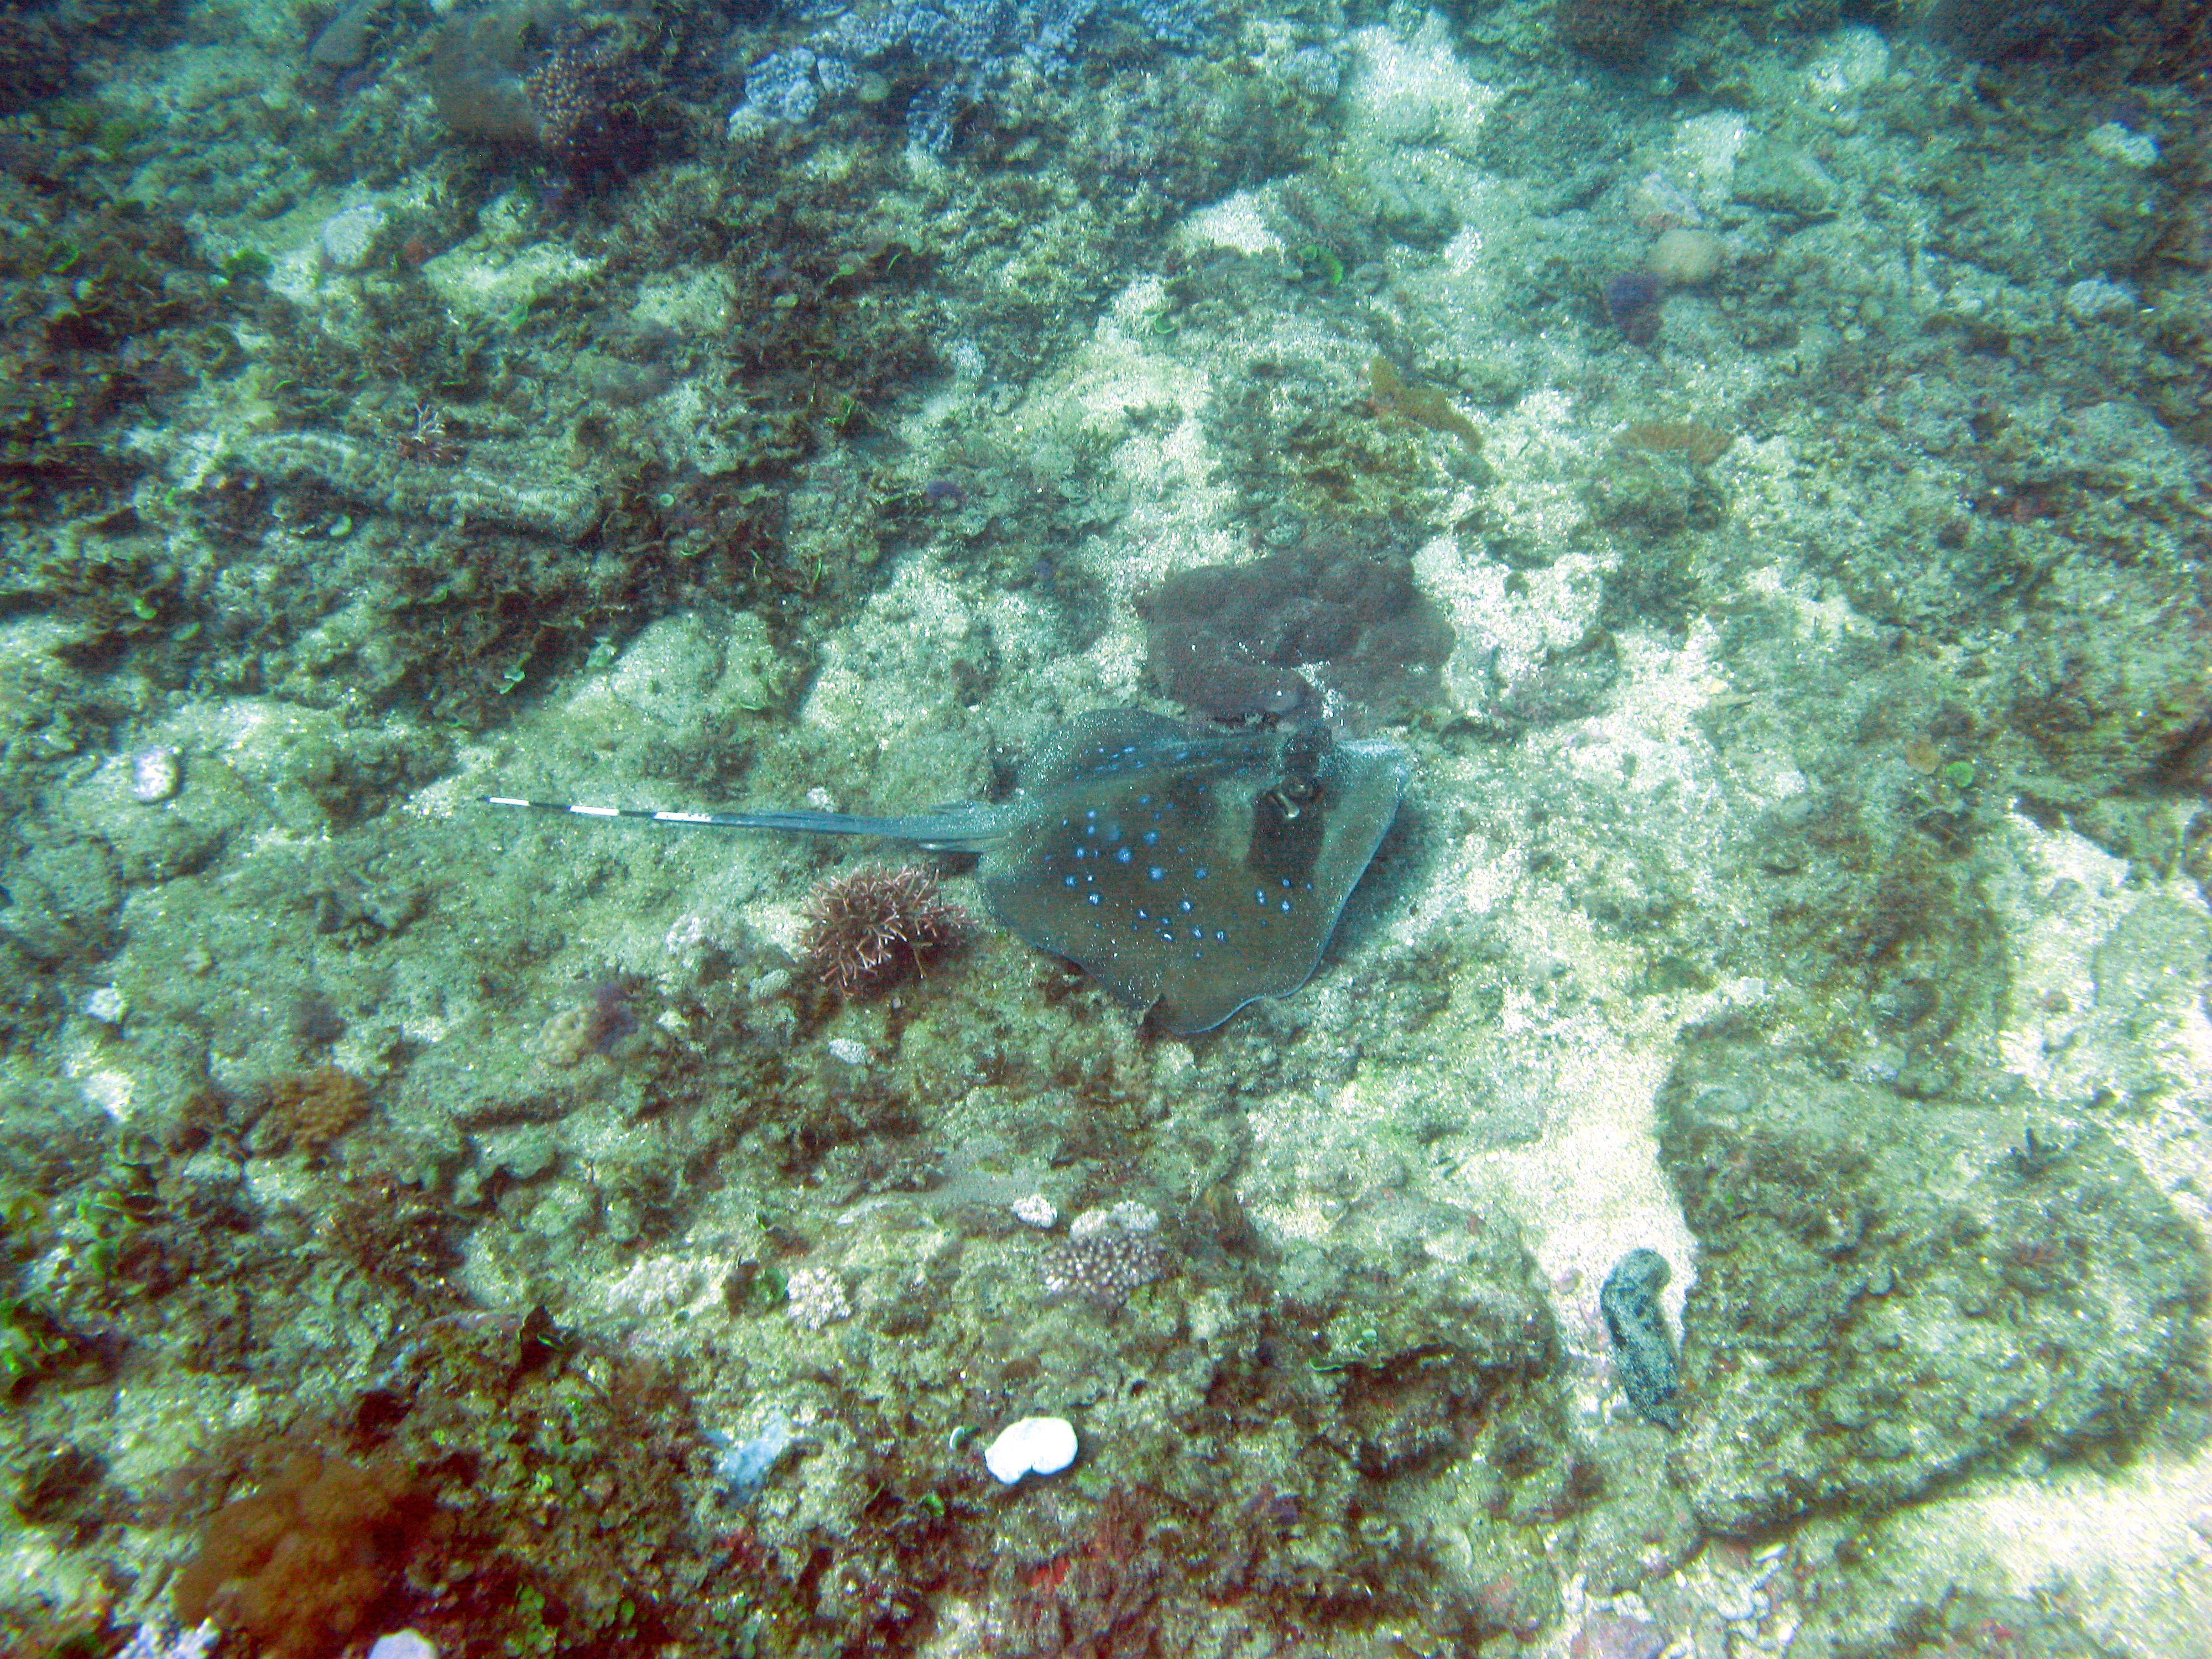Fish: (371, 650, 1458, 1061)
